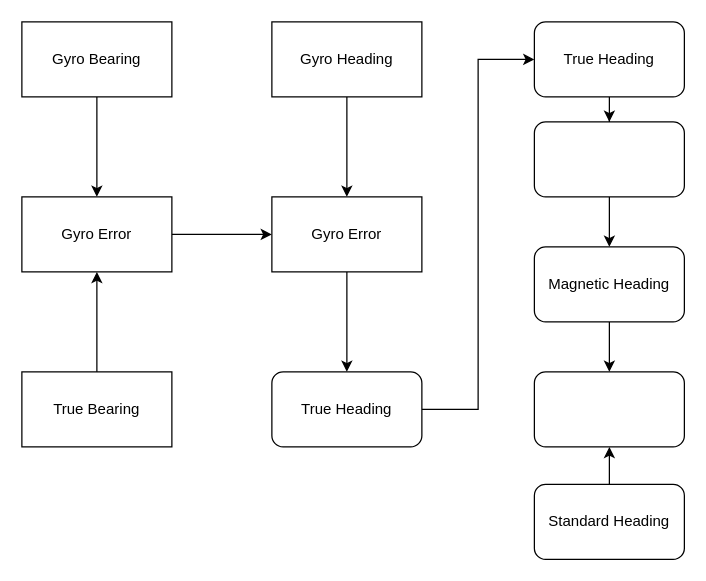
This 706x581 diagram has some shape labels left out. Each missing label, with the box of its shape:
Charted Variation: (533, 121, 684, 197)
Deviation: (533, 371, 684, 447)
